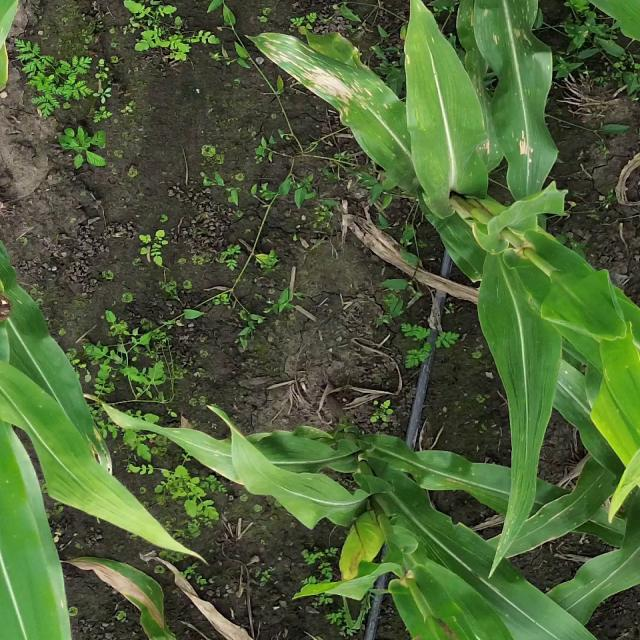gray-leaf-spot: (480, 12, 577, 191), (255, 29, 404, 138)
northern-leaf-blight: (56, 523, 171, 638), (63, 418, 132, 480)
southern-leaf-blight: (554, 361, 632, 418), (418, 446, 484, 500)
